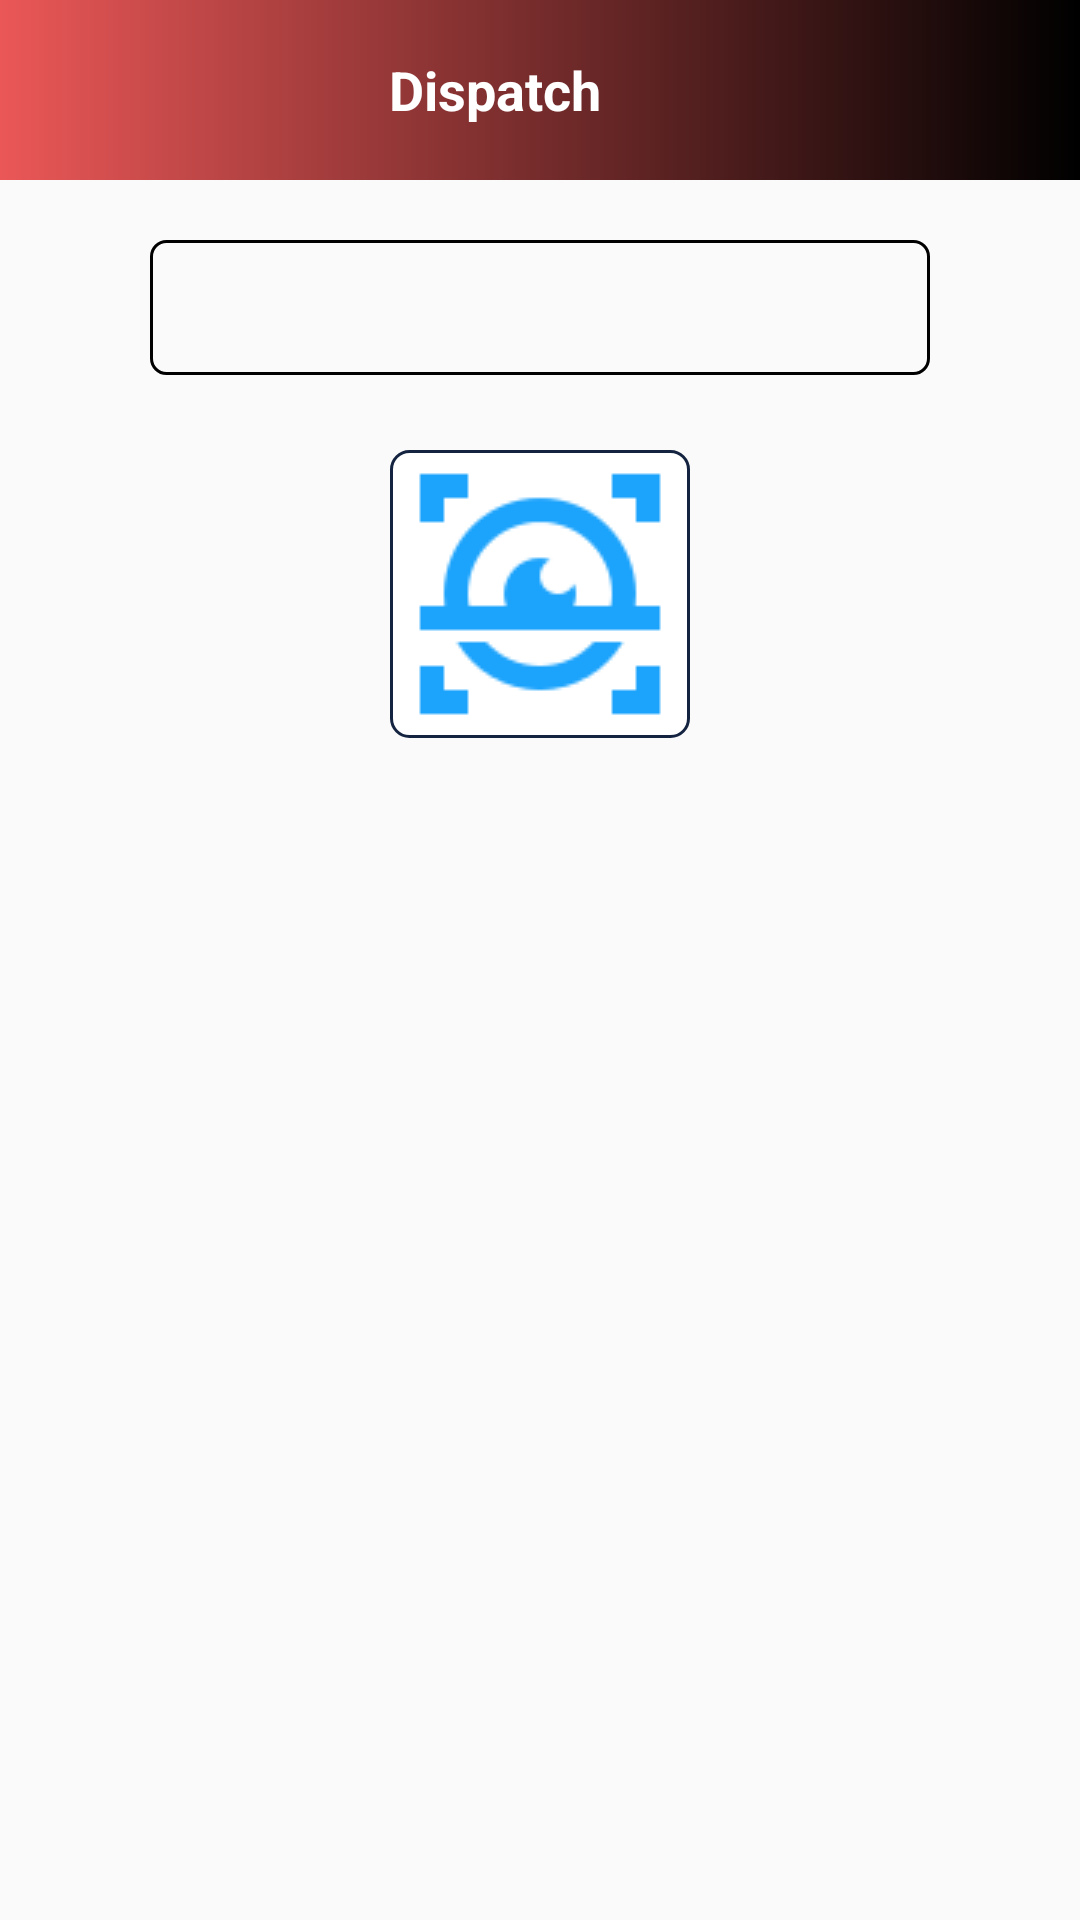

Named icons in this screenshot (1080*1920) and their centers, (x,y):
scan: (540,594)
